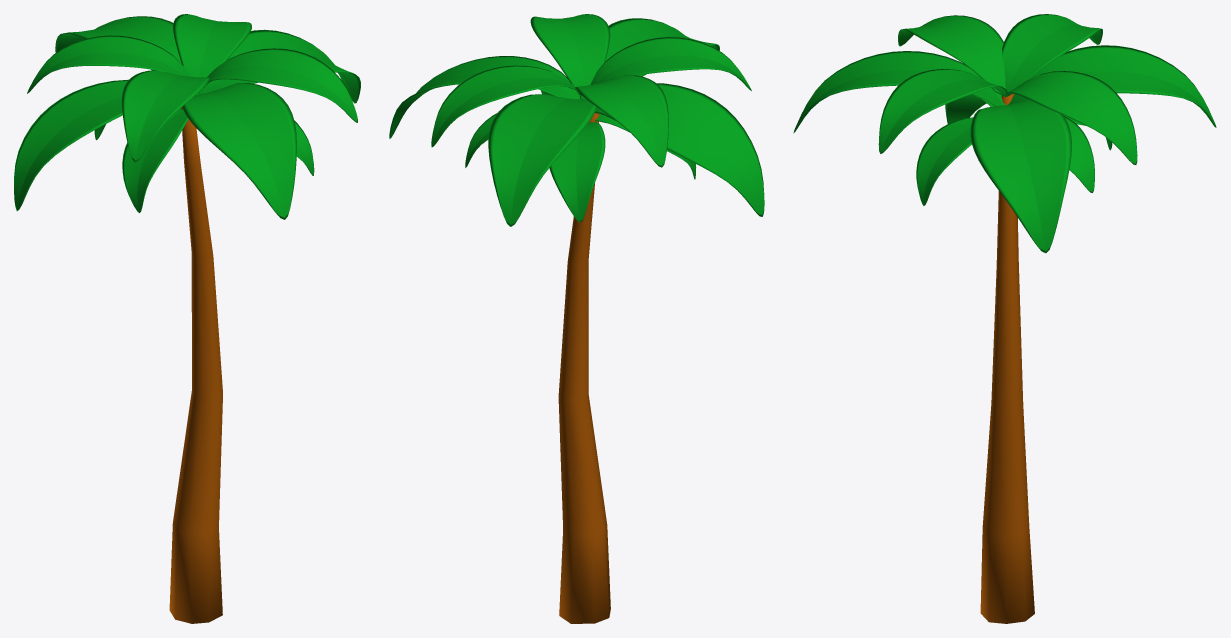
Rendered from PalmTree3.fbx.
3 views of the same model, side by side, from view 1: azimuth 30°, elevation 25°; view 2: azimuth 150°, elevation 25°; view 3: azimuth 270°, elevation 25° (orthographic).
Parts seen in each view (by area): view 1: PalmTree3; view 2: PalmTree3; view 3: PalmTree3.
Boxes of the visible parts, box(x1,y1,x2,y2) form: PalmTree3: box(14, 14, 360, 623); PalmTree3: box(389, 14, 764, 623); PalmTree3: box(793, 14, 1216, 623).
Bounding box in the file's own units: 5.25 × 5.44 × 7.88.
